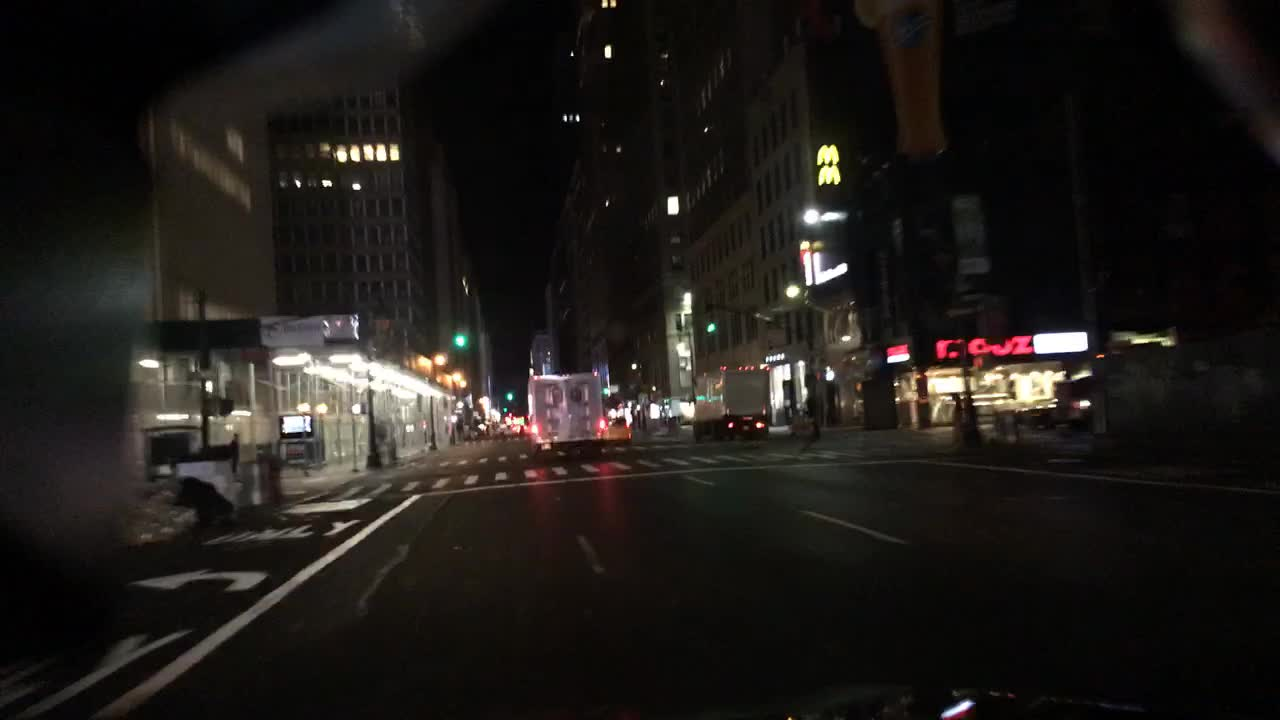car: (605, 419, 633, 447), (506, 421, 528, 440)
person: (949, 389, 979, 446)
traffic light: (204, 379, 219, 397), (823, 368, 838, 383), (454, 333, 467, 346), (706, 321, 716, 331), (505, 392, 513, 399), (502, 406, 509, 414)
truck: (526, 370, 606, 458), (691, 363, 773, 443)
